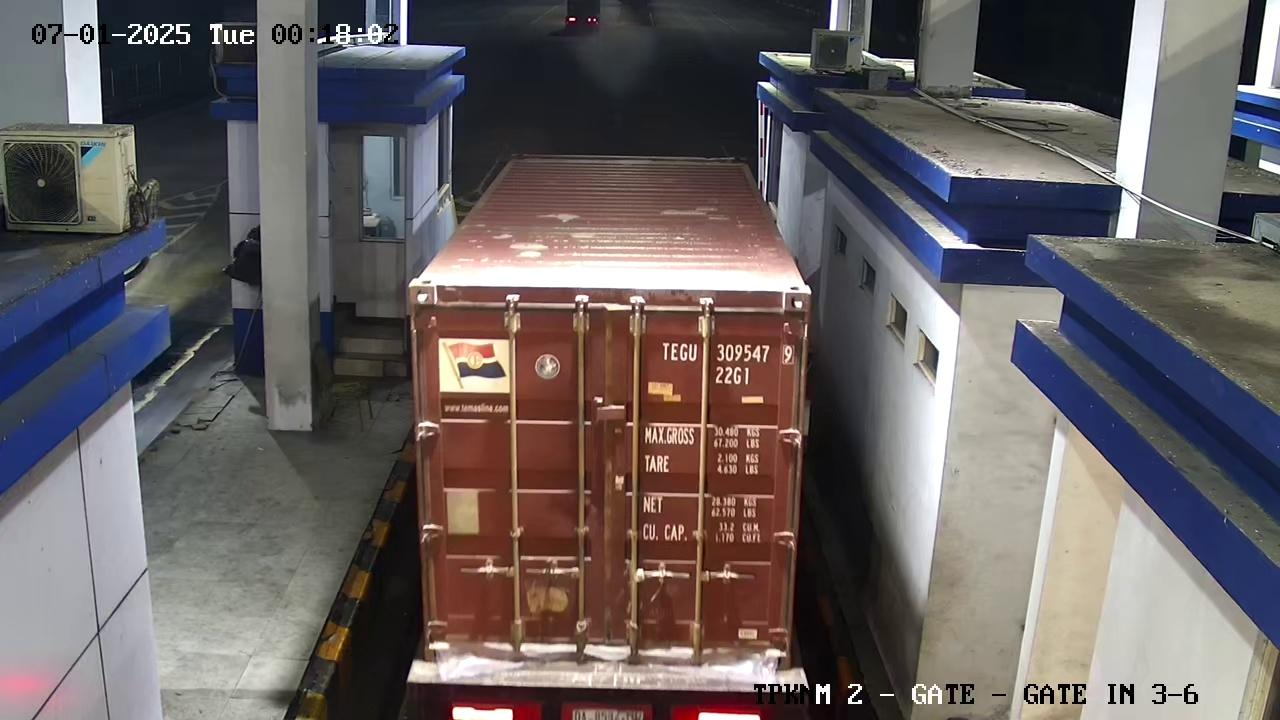Container_ID: (628, 329, 814, 402)
